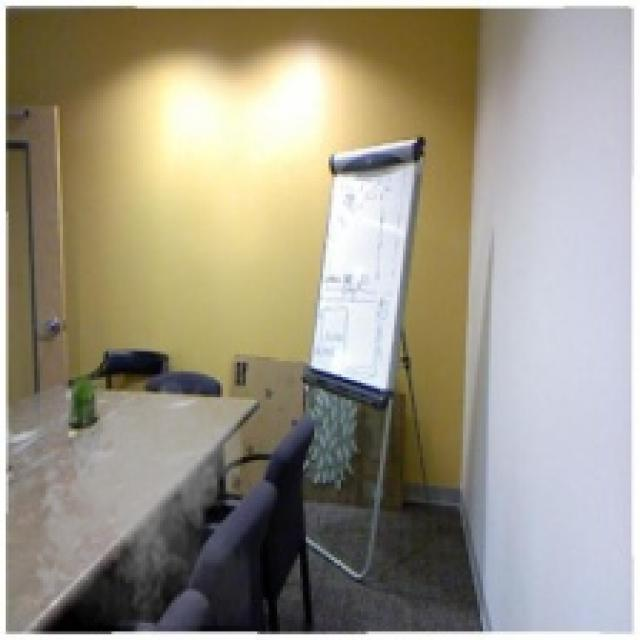smoke: (28, 371, 252, 626)
